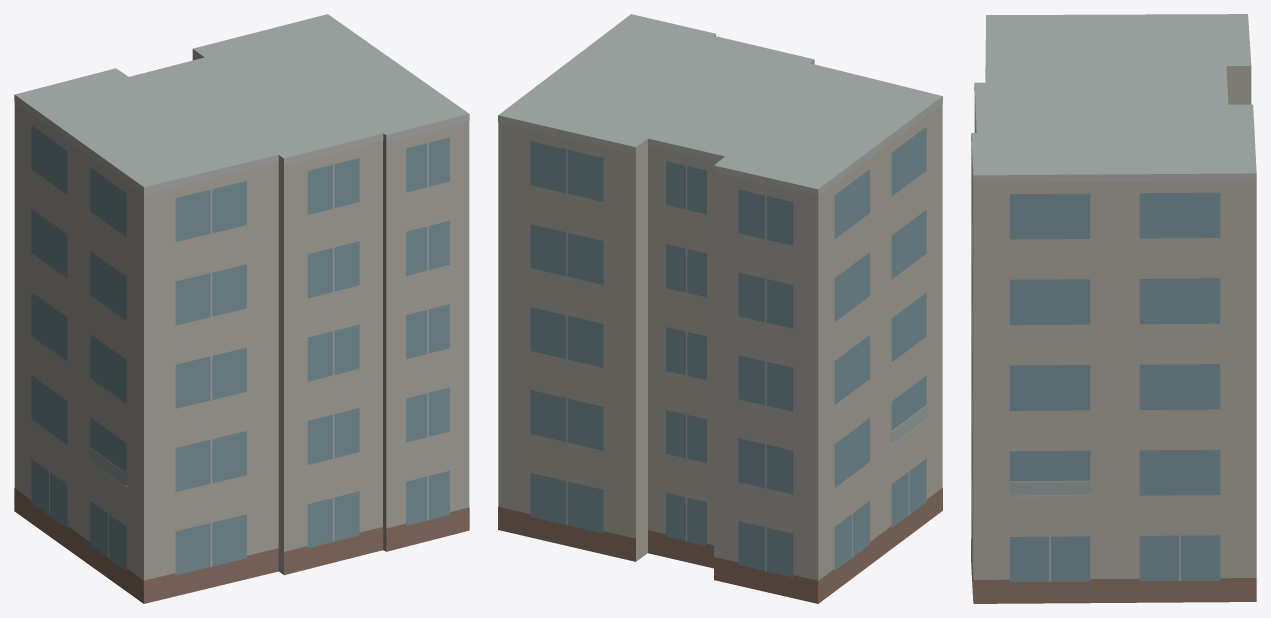
Rendered from survey-upis-32654209.glb.
3 renders of one model, left to right at view 1: azimuth 30°, elevation 25°; view 2: azimuth 150°, elevation 25°; view 3: azimuth 270°, elevation 25°, orthographic. The views are drawn at different scales.
Parts seen in each view (by area): view 1: survey-upis-32654209.tmp; view 2: survey-upis-32654209.tmp; view 3: survey-upis-32654209.tmp.
Boxes of the visible parts, x1,y1,x2,y2 form: survey-upis-32654209.tmp: (14,14,469,603); survey-upis-32654209.tmp: (498,14,942,603); survey-upis-32654209.tmp: (971,14,1256,603).
Bounding box in the file's own units: 11.53 × 14.25 × 8.61.
